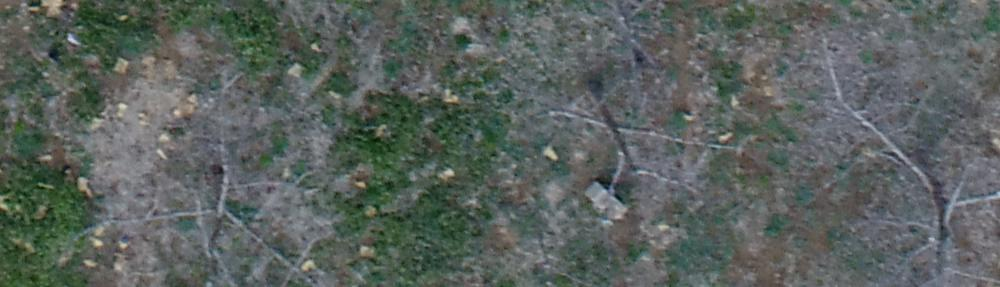apple: (802, 30, 990, 277), (88, 128, 335, 277), (520, 72, 735, 218)
